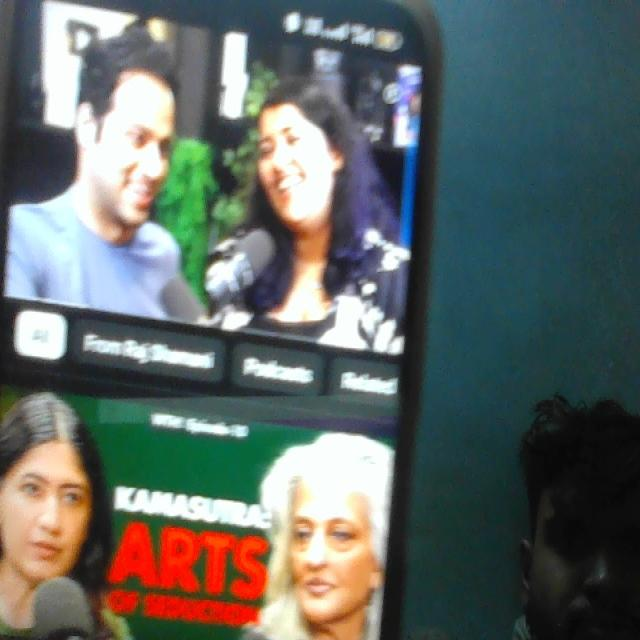fake: (261, 386, 397, 640), (71, 11, 197, 248)
